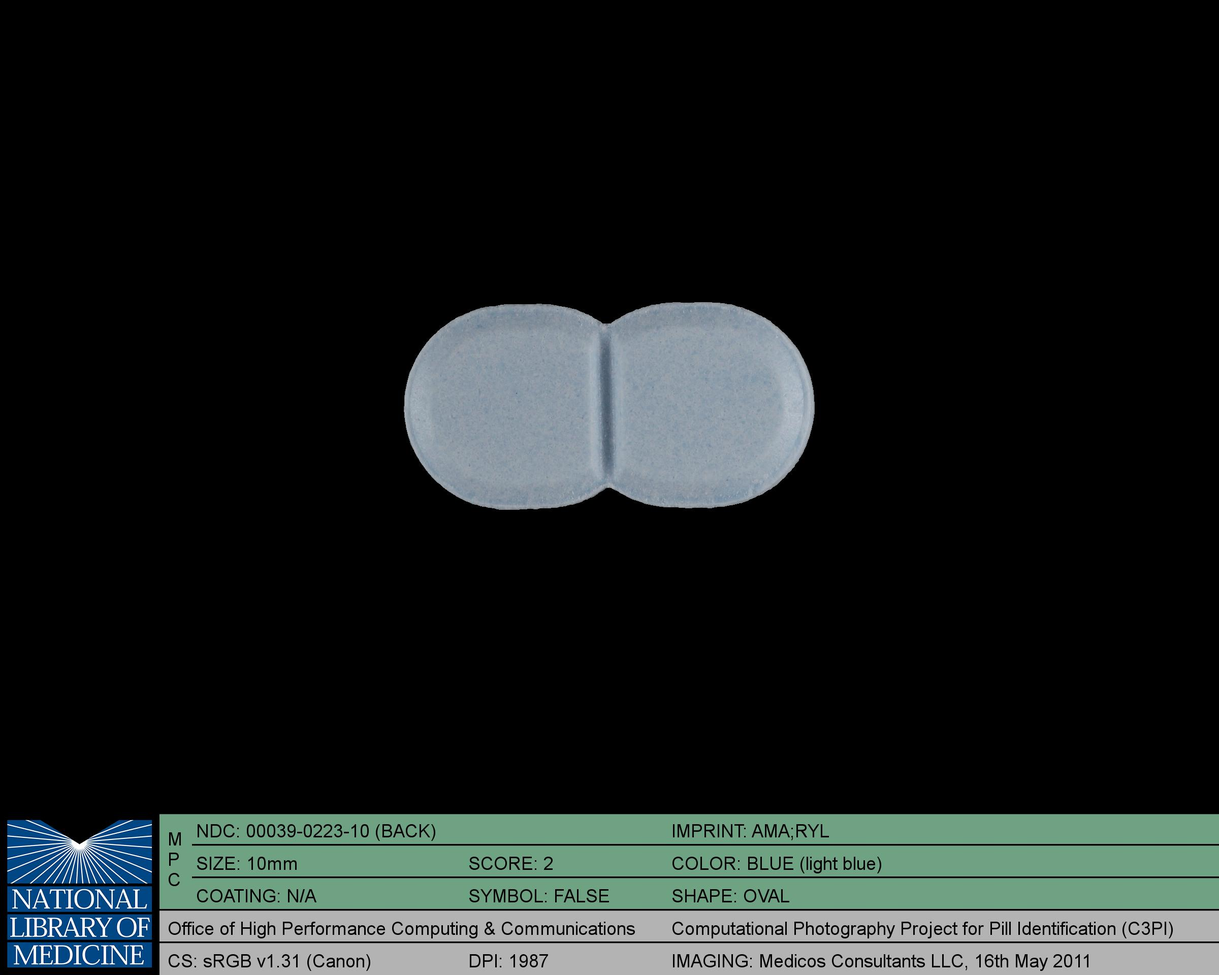Pill: (371, 284, 842, 541)
